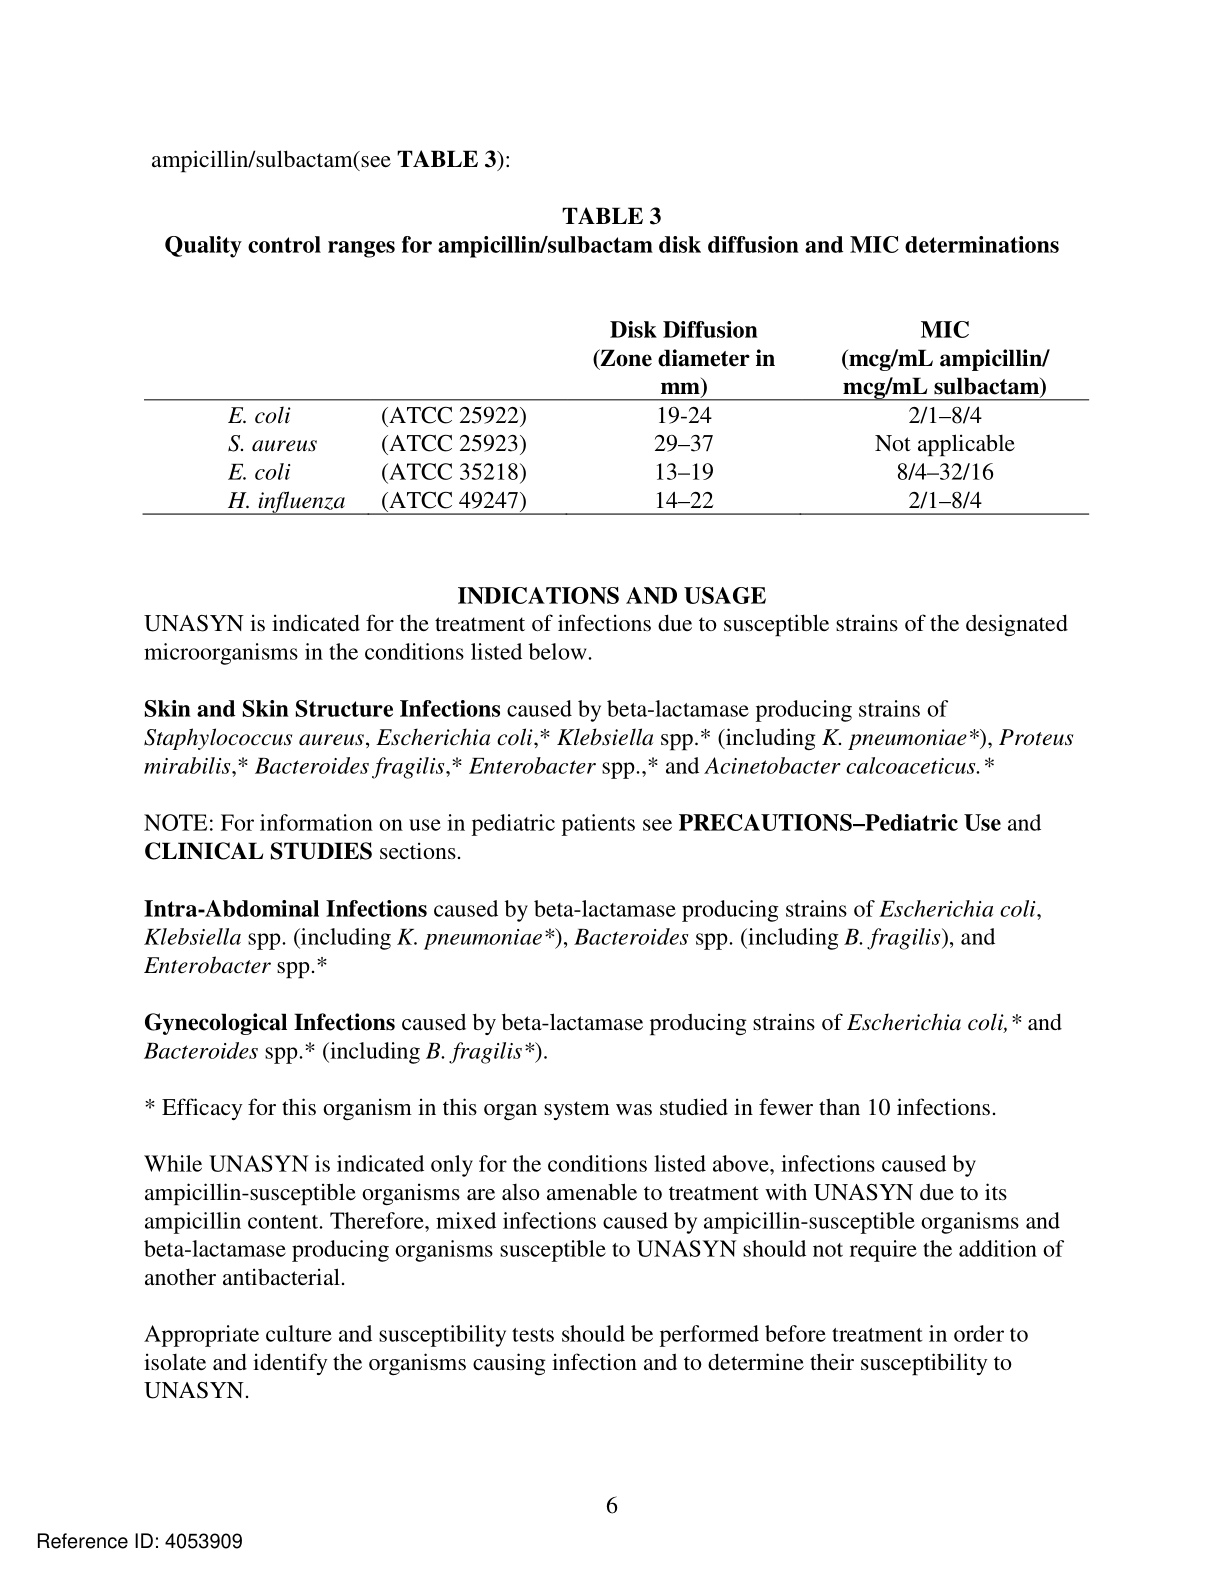partial_lined: (141, 316, 1092, 516)
